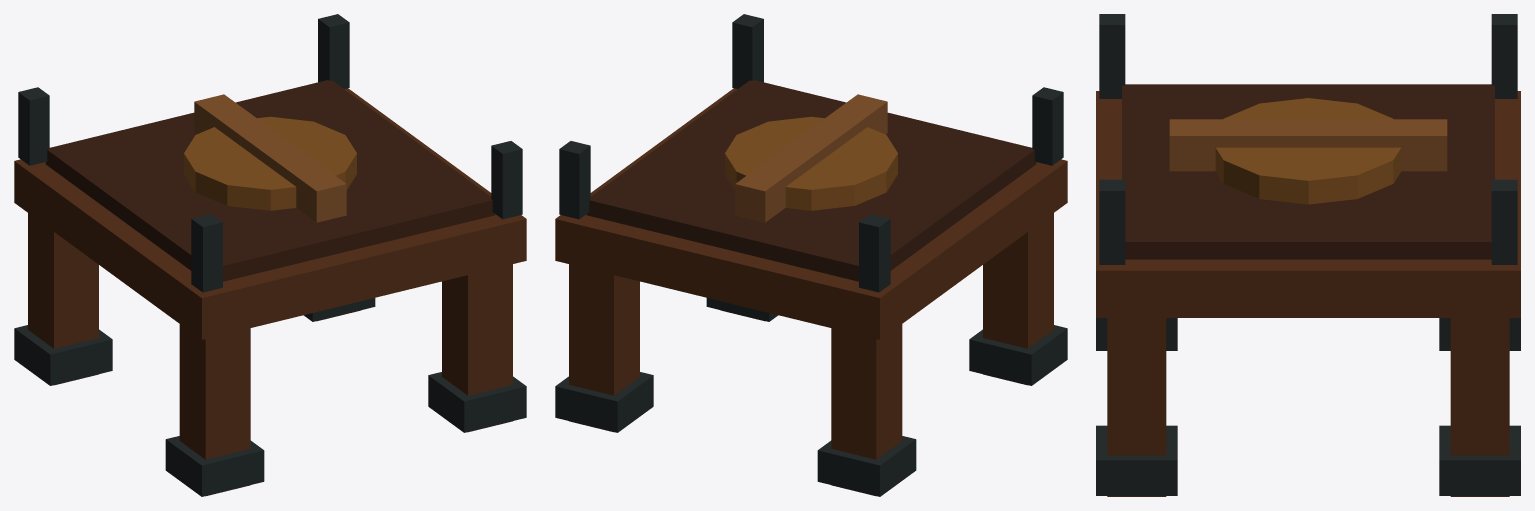
File: vf_splitter.obj
The picture shows the model from 3 angles, left to right: view 1: azimuth 30°, elevation 25°; view 2: azimuth 150°, elevation 25°; view 3: azimuth 270°, elevation 25°; orthographic projection. The views are drawn at different scales.
Visible parts, largest first — view 1: Static_Oak, Static_Hide, Static_Iron, Selector_Bronze, Selector_OakLight; view 2: Static_Oak, Static_Hide, Static_Iron, Selector_Bronze, Selector_OakLight; view 3: Static_Oak, Static_Hide, Static_Iron, Selector_Bronze, Selector_OakLight.
Part boxes in pixels (x1,y1,x2,y2): Static_Oak: [14, 88, 526, 496]; Static_Hide: [45, 80, 495, 281]; Static_Iron: [14, 14, 526, 496]; Selector_Bronze: [184, 116, 356, 210]; Selector_OakLight: [194, 94, 346, 222]; Static_Oak: [555, 88, 1067, 496]; Static_Hide: [586, 80, 1036, 281]; Static_Iron: [555, 14, 1067, 496]; Selector_Bronze: [725, 116, 897, 210]; Selector_OakLight: [735, 94, 887, 222]; Static_Oak: [1096, 91, 1520, 496]; Static_Hide: [1122, 84, 1494, 259]; Static_Iron: [1096, 14, 1520, 495]; Selector_Bronze: [1215, 98, 1401, 204]; Selector_OakLight: [1169, 119, 1447, 171].
Bounding box in the file's own units: 1.3 × 1.04 × 1.3.
